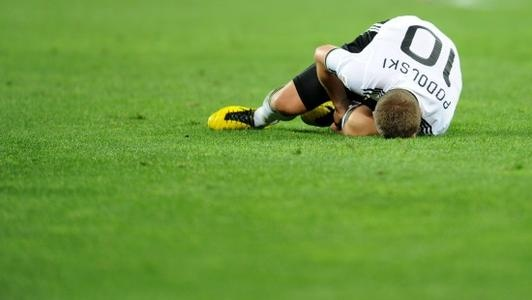falling: (213, 8, 470, 142)
